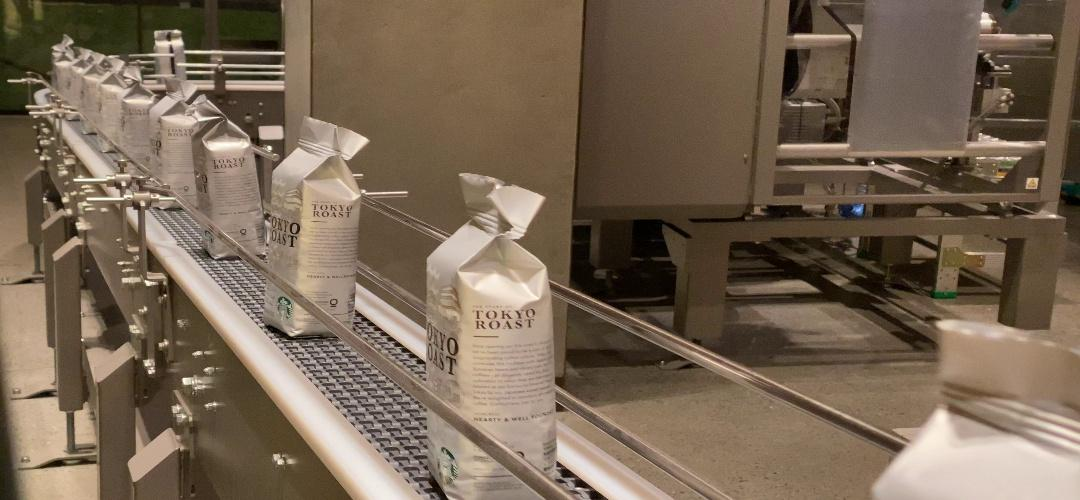conveyor: (422, 256, 555, 379), (269, 167, 359, 272), (191, 146, 261, 209)
